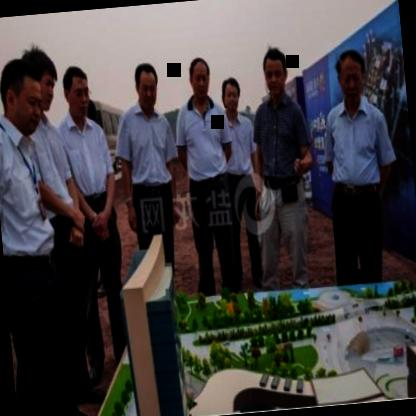head: (0, 54, 54, 138), (332, 45, 371, 110), (24, 48, 61, 115), (58, 63, 95, 121), (258, 43, 292, 101), (130, 60, 163, 112), (186, 54, 214, 100), (220, 75, 244, 117)
